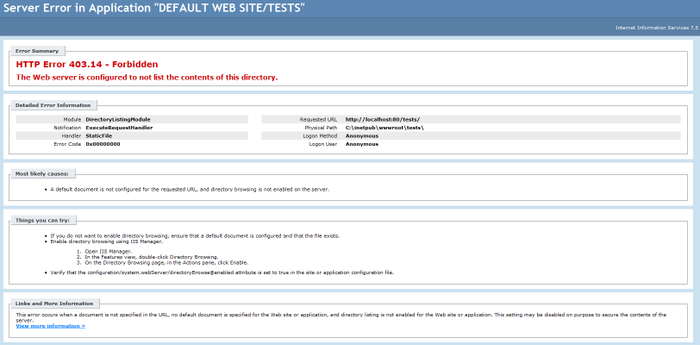error_message: (14, 59, 278, 82)
